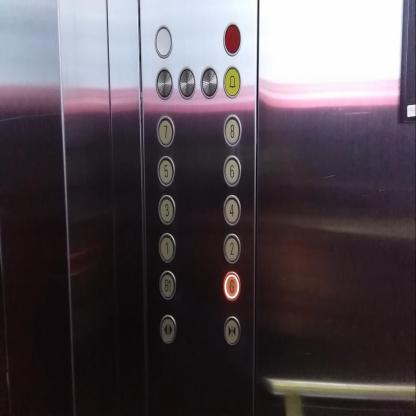1: (158, 231, 176, 264)
2: (222, 231, 240, 264)
3: (158, 193, 176, 225)
4: (222, 193, 241, 225)
5: (156, 155, 175, 186)
6: (222, 154, 241, 186)
7: (156, 115, 175, 147)
8: (222, 112, 242, 146)
B1: (158, 268, 177, 300)
G: (223, 270, 240, 301)
alarm: (223, 65, 241, 97)
close: (223, 314, 241, 346)
empty: (223, 21, 242, 58), (154, 24, 174, 58)
open: (159, 314, 177, 344)
speaker: (154, 66, 174, 100), (176, 65, 196, 99), (200, 66, 220, 100)
